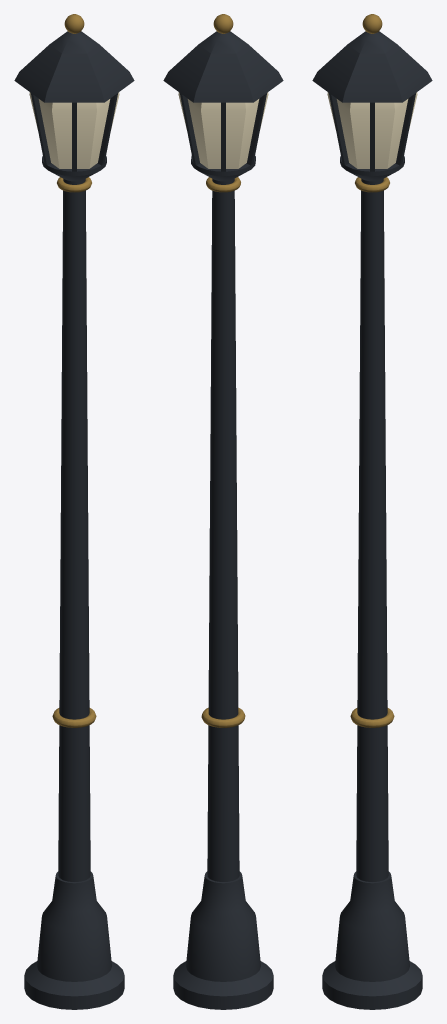
The model's file is stadium-lamp.glb.
3 renders of one model, left to right at view 1: azimuth 90°, elevation 25°; view 2: azimuth 150°, elevation 25°; view 3: azimuth 270°, elevation 25°, orthographic.
Parts seen in each view (by area): view 1: pole, base, hood, lantern, cap_seat, frame_post_3, frame_post_5, collar, frame_post_4, collar_top, finial; view 2: pole, base, hood, lantern, cap_seat, frame_post_2, frame_post_4, collar, frame_post_3, collar_top, finial; view 3: pole, base, hood, lantern, cap_seat, frame_post_2, frame_post_6, collar, frame_post_1, collar_top, finial.
Part boxes in pixels (x1,y1,x2,y2): pole: (58, 179, 90, 881); base: (24, 871, 124, 1009); hood: (14, 31, 134, 102); lantern: (29, 92, 119, 168); cap_seat: (42, 156, 106, 181); frame_post_3: (31, 93, 51, 165); frame_post_5: (97, 93, 117, 165); collar: (52, 708, 96, 727); frame_post_4: (72, 102, 76, 171); collar_top: (57, 177, 91, 192); finial: (64, 14, 84, 33); pole: (207, 179, 239, 881); base: (173, 871, 273, 1009); hood: (163, 31, 283, 102); lantern: (178, 92, 268, 168); cap_seat: (191, 155, 255, 181); frame_post_2: (180, 93, 200, 165); frame_post_4: (246, 93, 266, 165); collar: (201, 707, 245, 727); frame_post_3: (221, 102, 225, 171); collar_top: (206, 177, 240, 192); finial: (213, 14, 233, 33); pole: (356, 179, 388, 881); base: (322, 871, 422, 1009); hood: (312, 31, 432, 102); lantern: (327, 92, 417, 168); cap_seat: (340, 156, 404, 181); frame_post_2: (395, 93, 415, 165); frame_post_6: (329, 93, 349, 165); collar: (350, 708, 394, 727); frame_post_1: (370, 102, 374, 171); collar_top: (355, 177, 389, 192); finial: (362, 14, 382, 33).
Bounding box in the file's own units: 0.4157 × 4.29 × 0.48.
